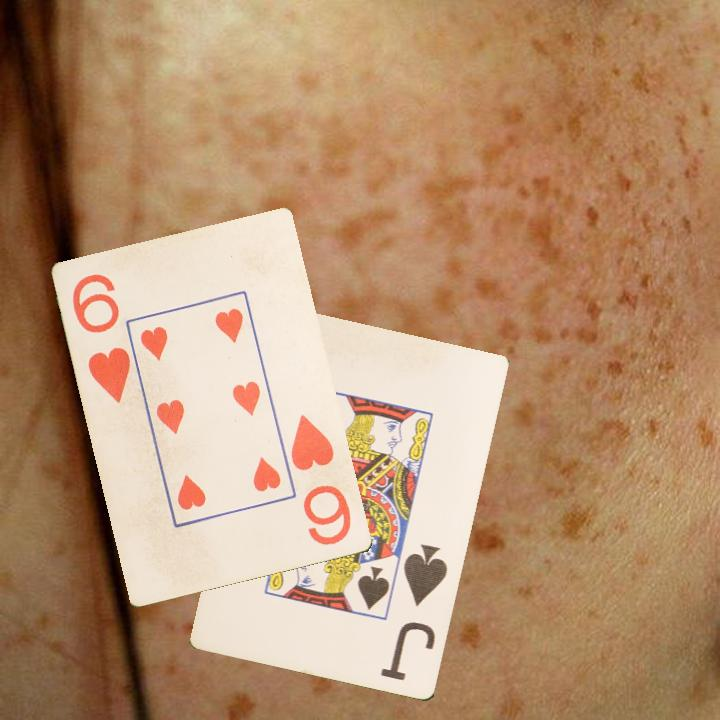6h: (288, 411, 355, 549), (69, 270, 134, 407)
Js: (377, 540, 451, 684)
